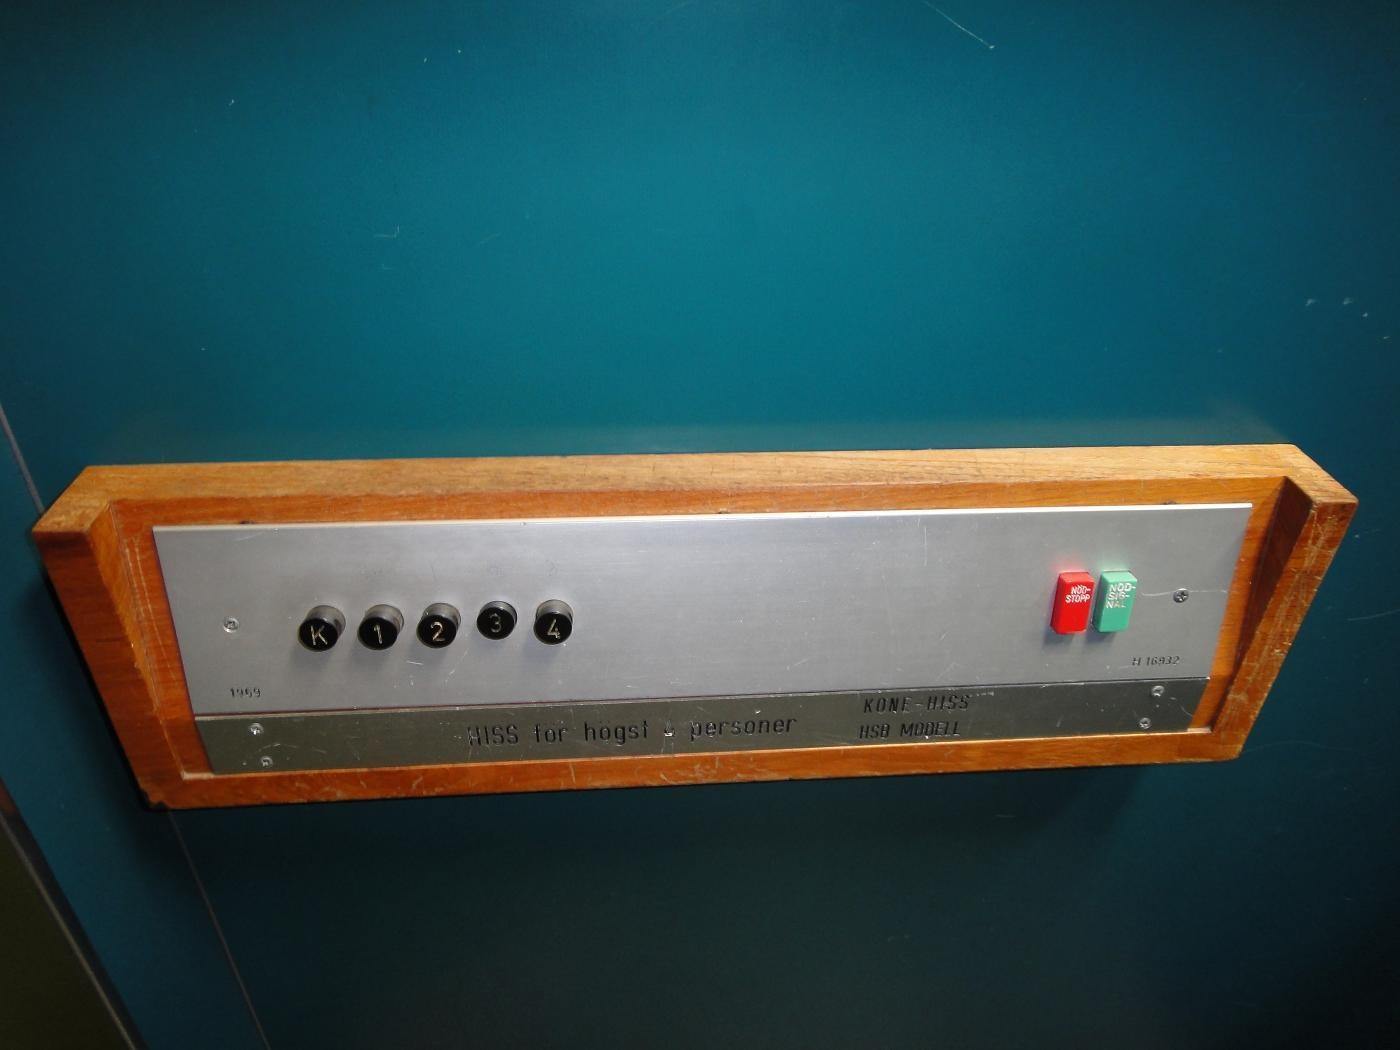1: (353, 599, 405, 651)
2: (418, 601, 466, 649)
3: (476, 598, 519, 641)
4: (529, 596, 577, 646)
K: (295, 604, 348, 656)
text: (1048, 568, 1095, 636), (1092, 570, 1138, 633)
